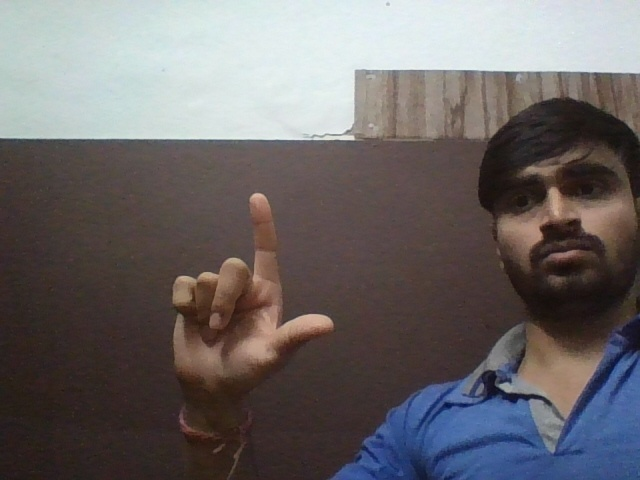L: (132, 184, 359, 398)
